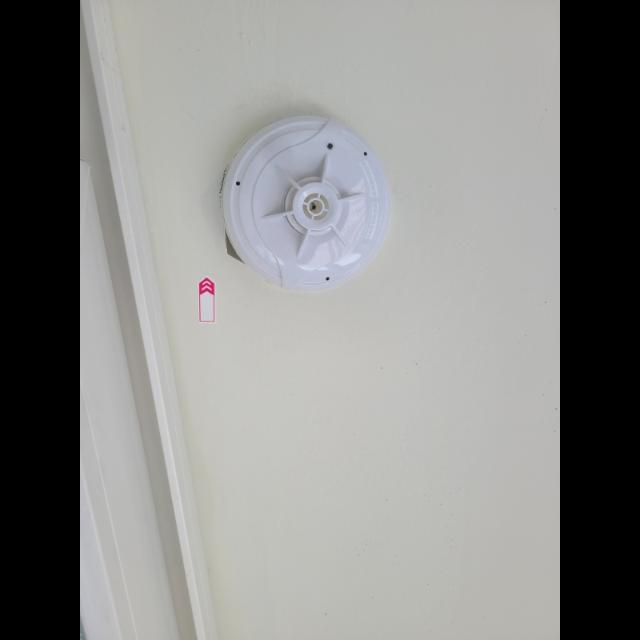Smoke-Detector: (222, 117, 388, 291)
